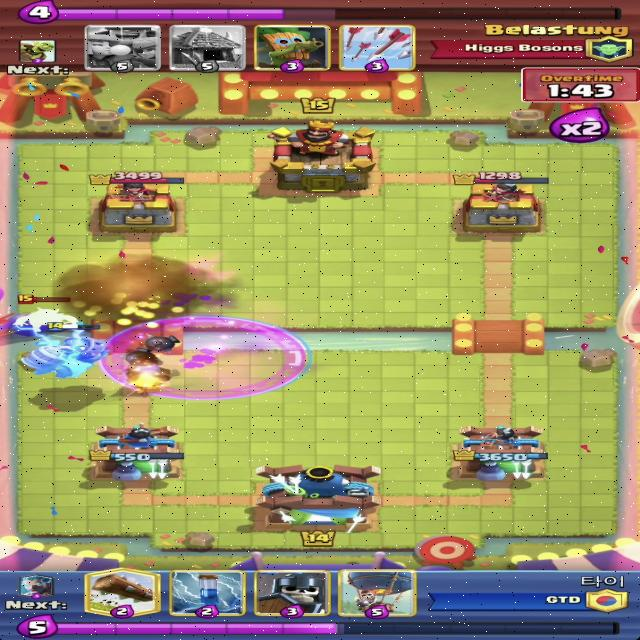Enemy-ElectroWizard: (12, 294, 81, 331)
Player-InfernoDragon: (16, 322, 113, 379)
